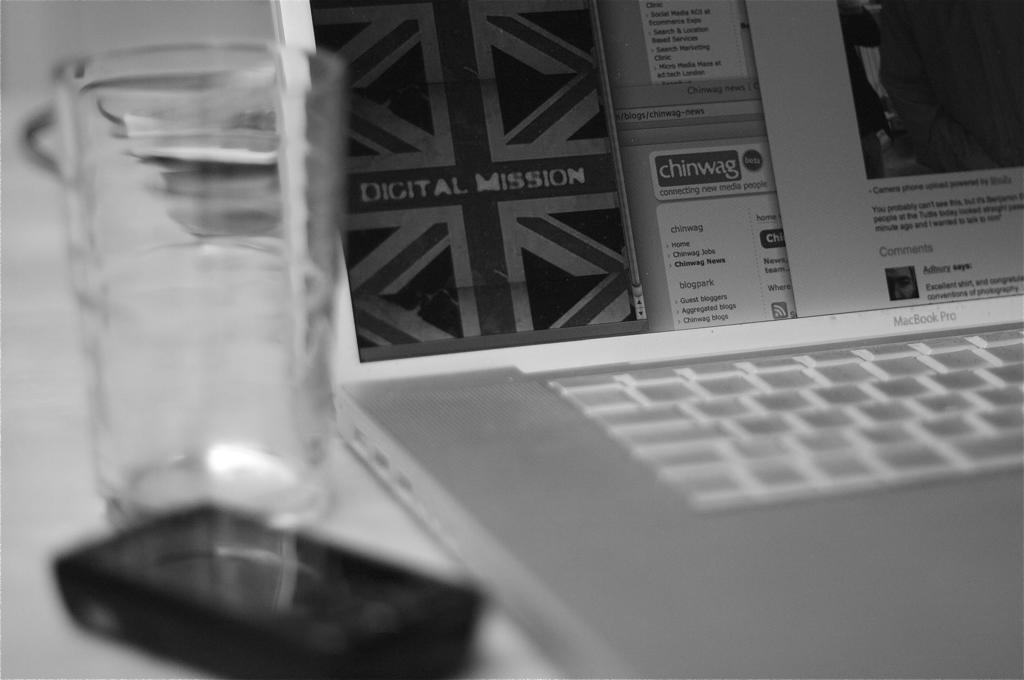Computer-keyboard: (542, 322, 1023, 510)
